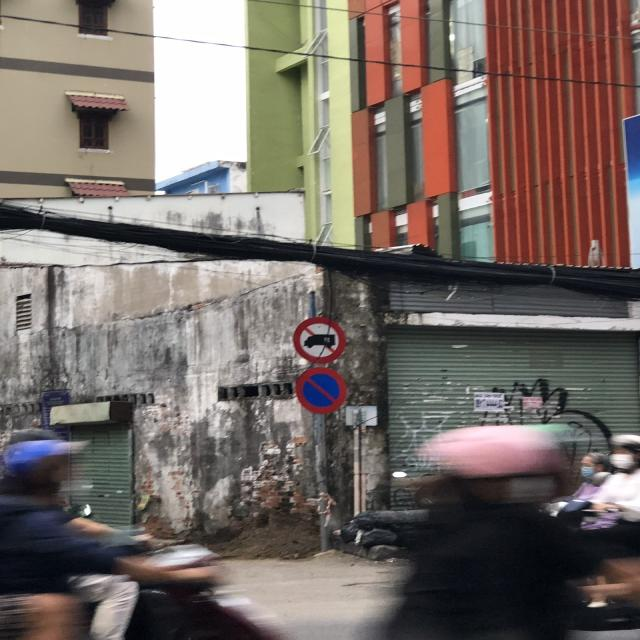Bien bao cam do xe: (292, 364, 352, 421)
Bien bao cam xe oto tai: (286, 313, 350, 365)
